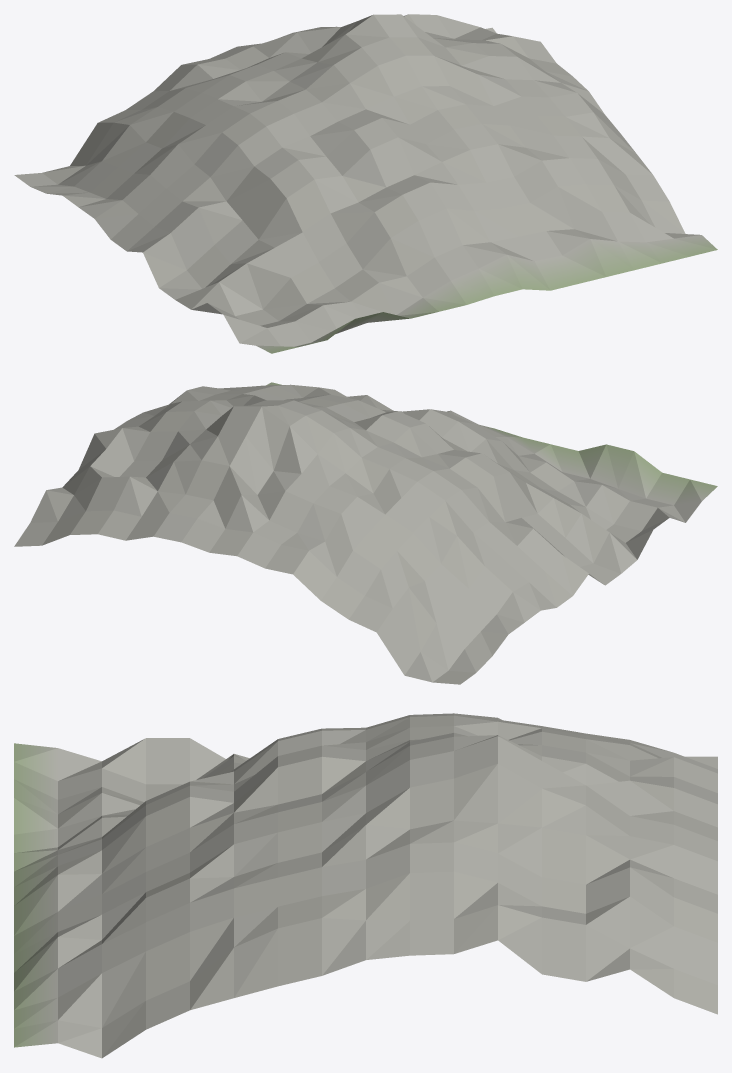
3 renders of one model, top to bottom at view 1: azimuth 30°, elevation 25°; view 2: azimuth 150°, elevation 25°; view 3: azimuth 270°, elevation 25°, orthographic. The views are drawn at different scales.
Bounding box in the file's own units: 32 × 10.84 × 32.
